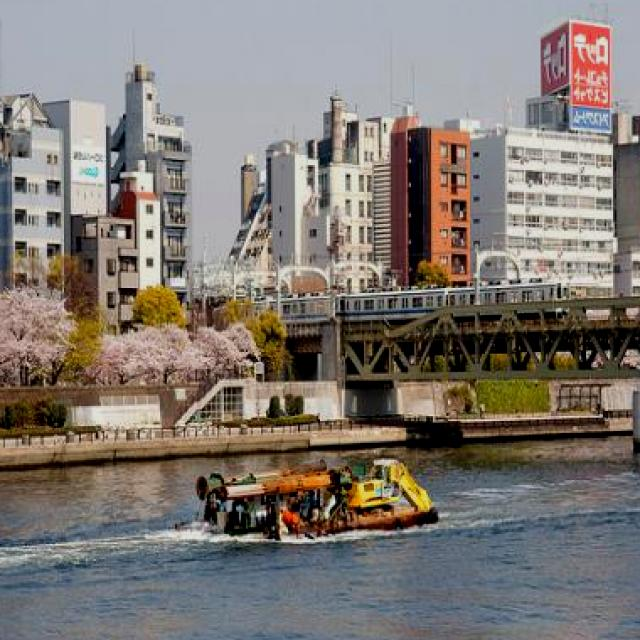ship: (188, 436, 450, 546)
